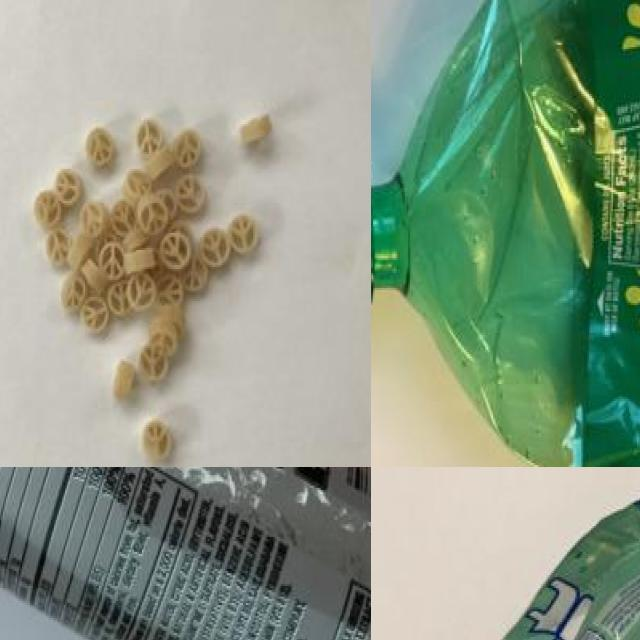compost: (18, 74, 299, 467)
plastic: (371, 0, 640, 467), (0, 467, 371, 640)
trash: (399, 467, 640, 640)
